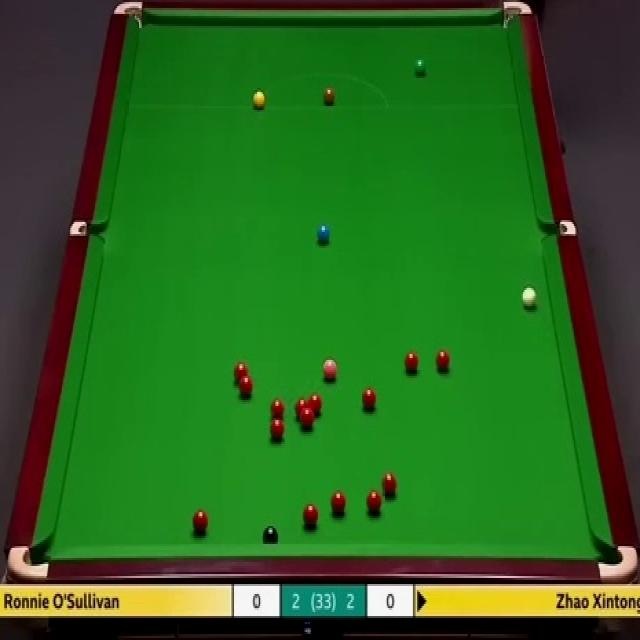black-ball: (262, 526, 278, 542)
blue-ball: (316, 223, 329, 244)
brown-ball: (322, 87, 336, 106)
green-ball: (415, 56, 426, 75)
pink-ball: (321, 353, 336, 377)
red-ball: (382, 470, 398, 499), (330, 491, 347, 517), (237, 373, 254, 398), (192, 508, 209, 533), (300, 406, 315, 434), (268, 416, 284, 442), (302, 502, 318, 528), (306, 392, 323, 416), (438, 351, 454, 374), (362, 386, 377, 410), (232, 362, 248, 383), (404, 352, 420, 372), (367, 491, 382, 512), (296, 398, 309, 421)
white-ball: (521, 286, 536, 307)
yellow-ball: (250, 90, 266, 110)
